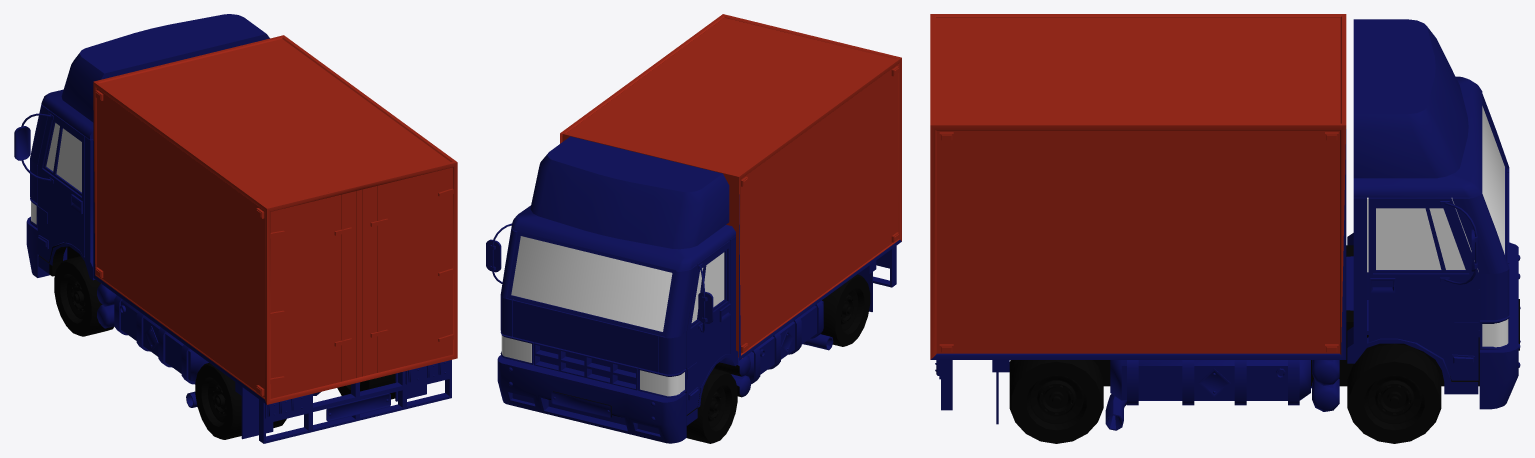
Rendered from Tir3.fbx.
3 views of the same model, side by side, from view 1: azimuth 30°, elevation 25°; view 2: azimuth 150°, elevation 25°; view 3: azimuth 270°, elevation 25° (orthographic). The views are drawn at different scales.
Visible parts, largest first — view 1: Box002.001, Box002.002, Box002, Object001; view 2: Box002.001, Box002.002, Object001, Box002; view 3: Box002.001, Box002.002, Box002, Object001.
Part boxes in pixels (x1,y1,x2,y2): Box002.001: [93, 35, 457, 404]; Box002.002: [14, 14, 451, 443]; Box002: [38, 242, 395, 439]; Object001: [31, 123, 81, 224]; Box002.001: [560, 14, 901, 358]; Box002.002: [486, 136, 901, 443]; Object001: [501, 236, 724, 396]; Box002: [543, 274, 870, 443]; Box002.001: [930, 14, 1346, 359]; Box002.002: [931, 19, 1520, 430]; Box002: [1009, 245, 1519, 443]; Object001: [1367, 106, 1508, 347].
Size of the model in its own units: 480 by 515 by 851.
